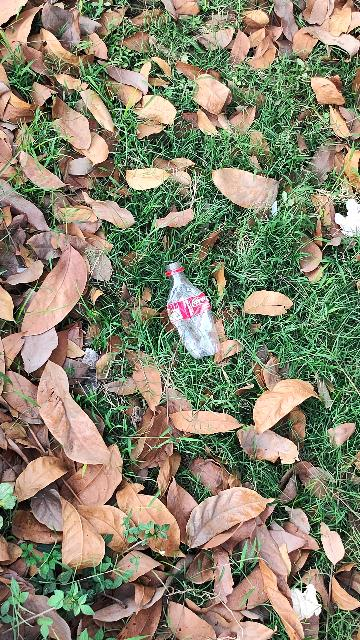bottle: (154, 264, 228, 357)
